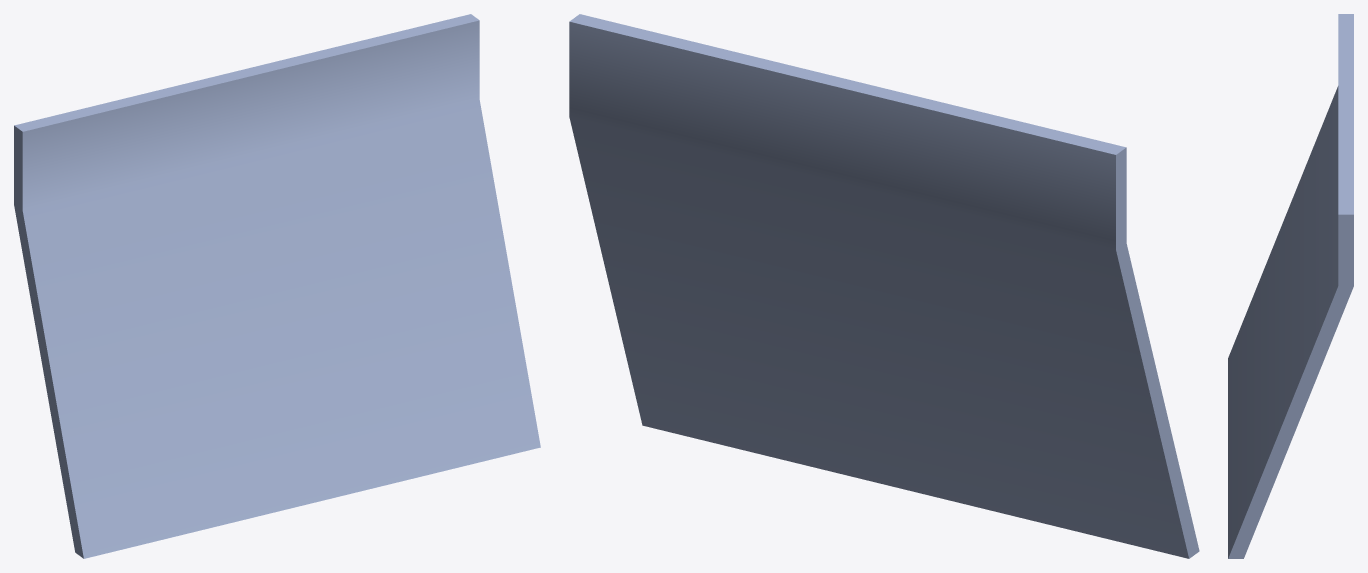
Rendered from BlueStickyNote.fbx.
3 renders of one model, left to right at view 1: azimuth 30°, elevation 25°; view 2: azimuth 150°, elevation 25°; view 3: azimuth 270°, elevation 25°, orthographic. The views are drawn at different scales.
Parts seen in each view (by area): view 1: sticky_note_blue; view 2: sticky_note_blue; view 3: sticky_note_blue.
Part boxes in pixels (left/top/right/bottom): sticky_note_blue: left=14, top=14, right=540, bottom=558; sticky_note_blue: left=569, top=14, right=1199, bottom=558; sticky_note_blue: left=1228, top=14, right=1353, bottom=558.
Bounding box in the file's own units: 0.4139 × 0.3309 × 0.1096.
